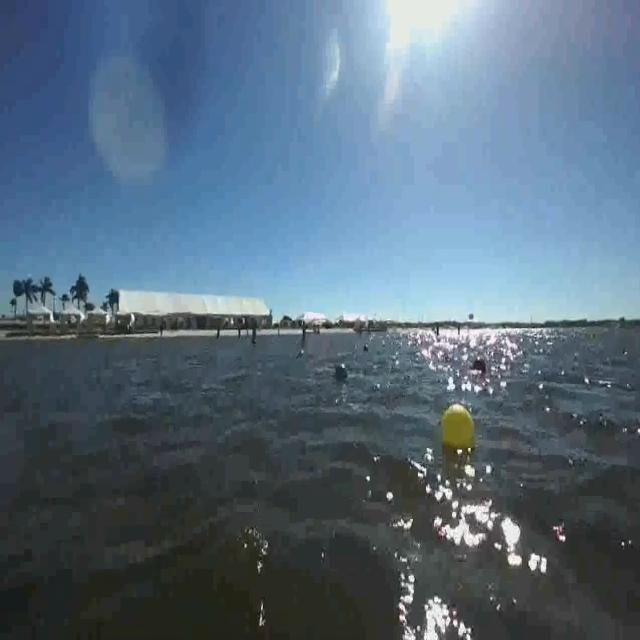yellow-buoy: (433, 402, 475, 452)
